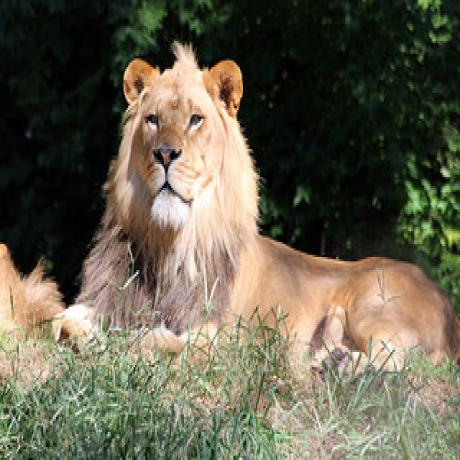Lion: (55, 36, 460, 372)
